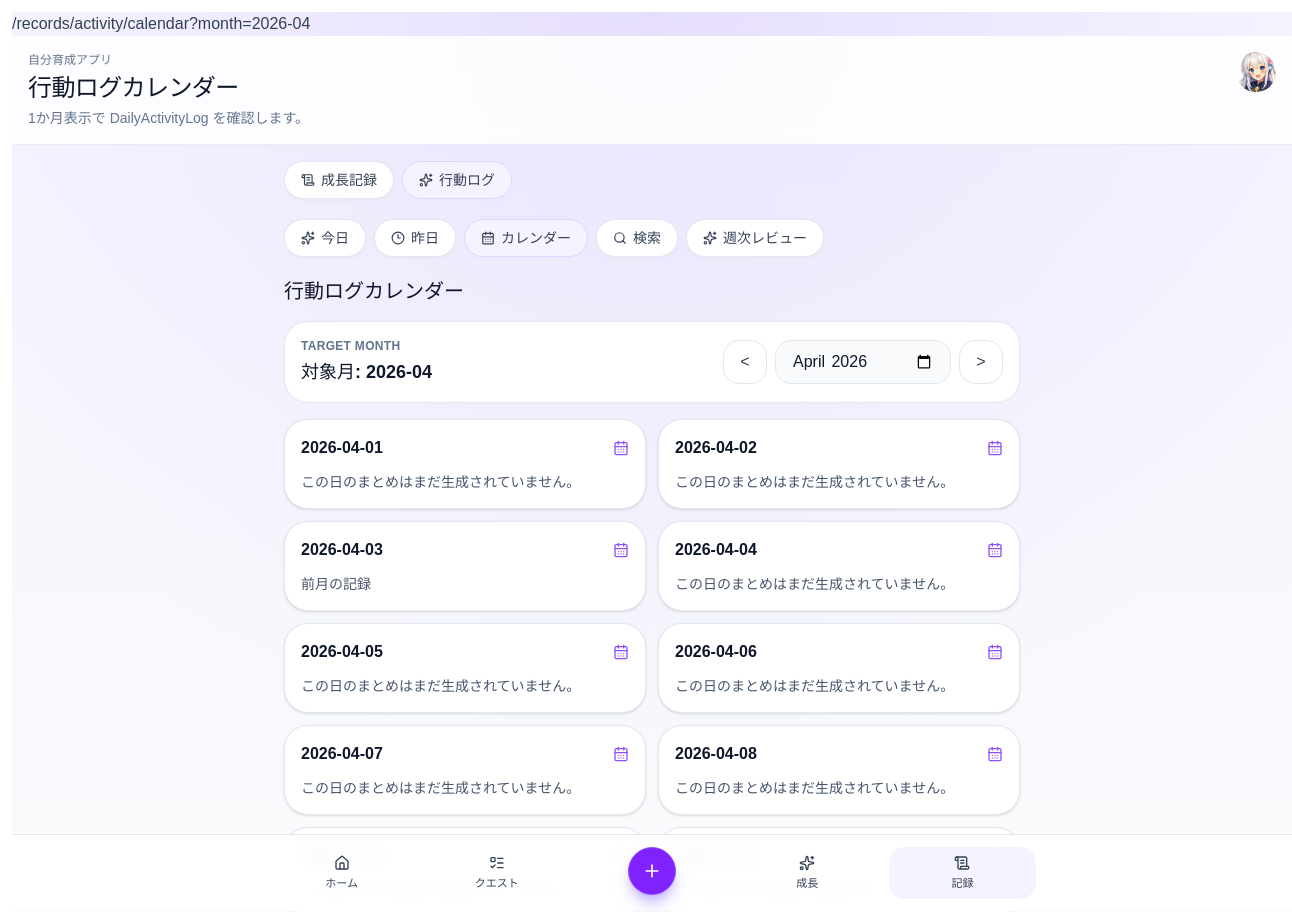
Test: activity log routes › renders the requested month and navigates from calendar to day detail
Expected: the text "対象月: 2026-04" is shown, [301,358,432,386]
Click the button with aria-label "2026-04-03 details". click: x=342, y=550
box: [285,522,645,610]
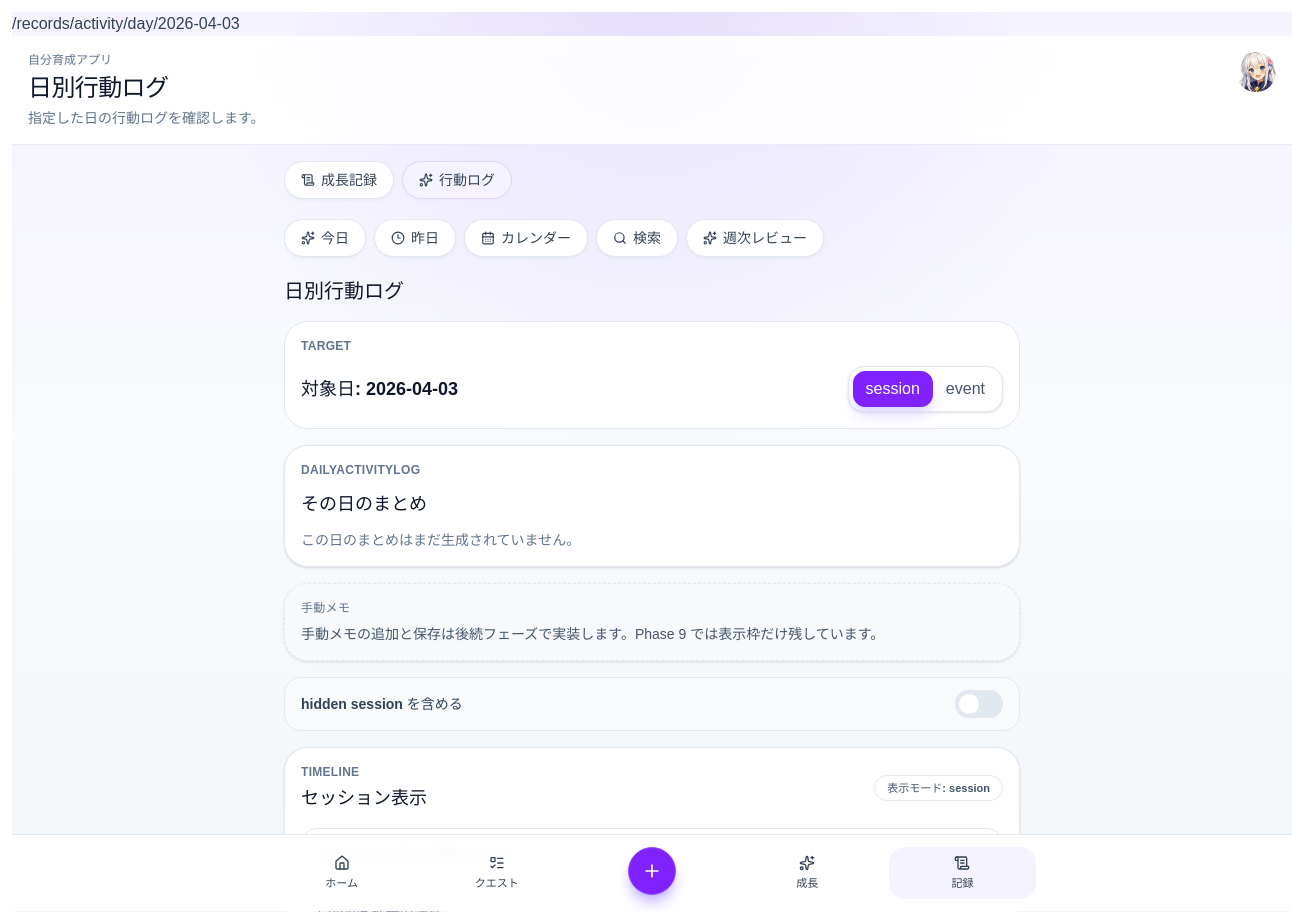
Result: the text with test id "location" reads "/records/activity/day/2026-04-03" at [12,15,240,32]
